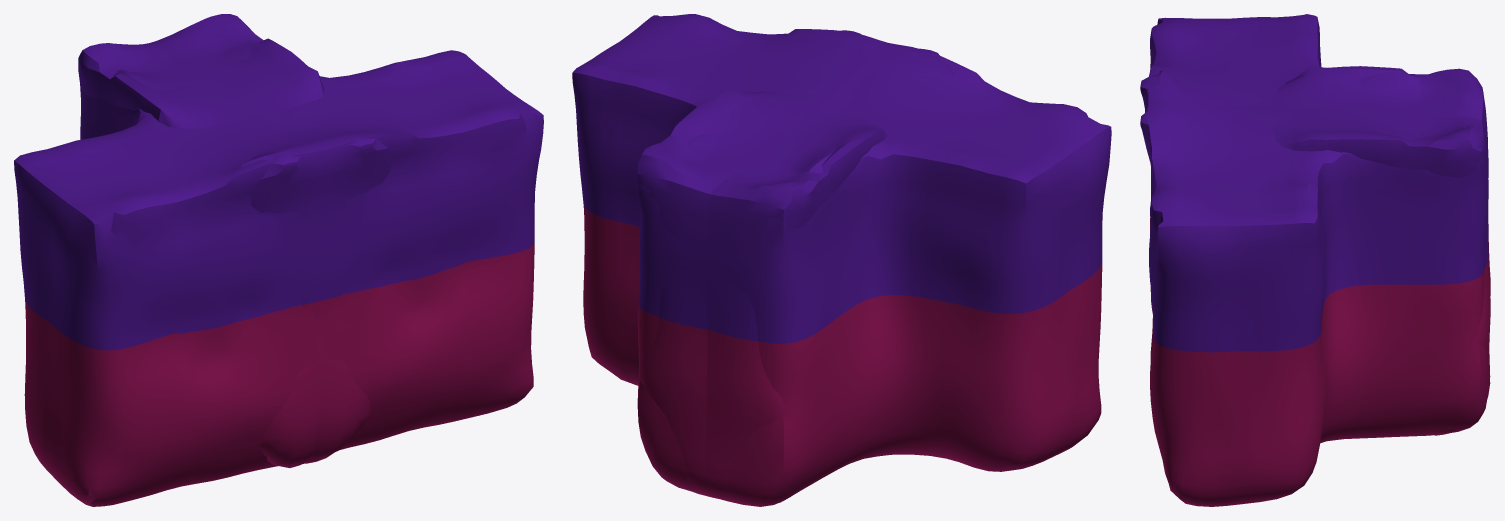
File: Tmodel.fbx
3 views of the same model, side by side, from view 1: azimuth 30°, elevation 25°; view 2: azimuth 150°, elevation 25°; view 3: azimuth 270°, elevation 25° (orthographic). The views are drawn at different scales.
Visible parts, largest first — view 1: T; view 2: T; view 3: T.
Boxes of the visible parts, x1,y1,x2,y2 form: T: (14,14,543,506); T: (572,14,1111,506); T: (1140,14,1490,506).
Size of the model in its own units: 310 by 215 by 212.
1 material, 1 textured.
